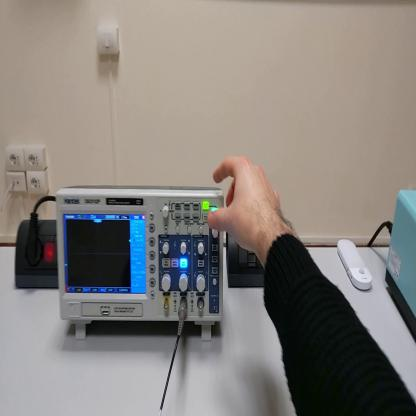hand: (206, 156, 284, 253)
oscilloscope: (54, 184, 224, 342)
socket: (13, 221, 60, 291)
welder station: (387, 187, 416, 341)
